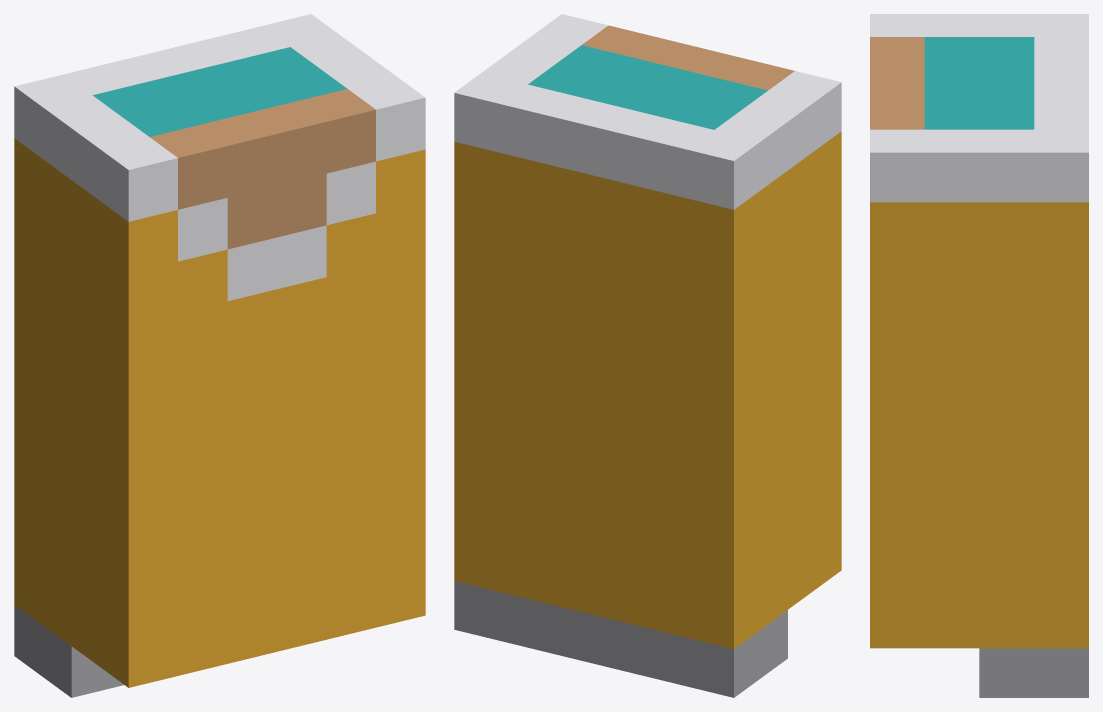
File: torso.obj
The picture shows the model from 3 angles, left to right: view 1: azimuth 30°, elevation 25°; view 2: azimuth 150°, elevation 25°; view 3: azimuth 270°, elevation 25°; orthographic projection. The views are drawn at different scales.
Size of the model in its own units: 0.6 by 1.1 by 0.4.
1 material, 1 textured.
